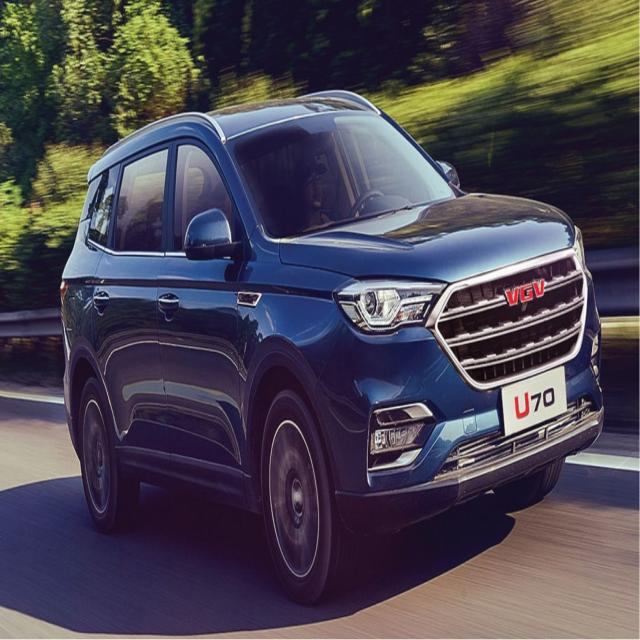SUV: (59, 92, 605, 608)
